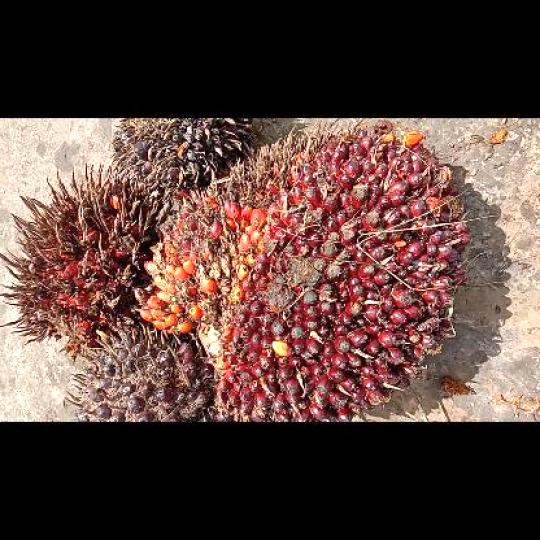kurang masak: (70, 330, 216, 420)
masak: (133, 117, 472, 420)
terlalu masak: (1, 166, 162, 351)
